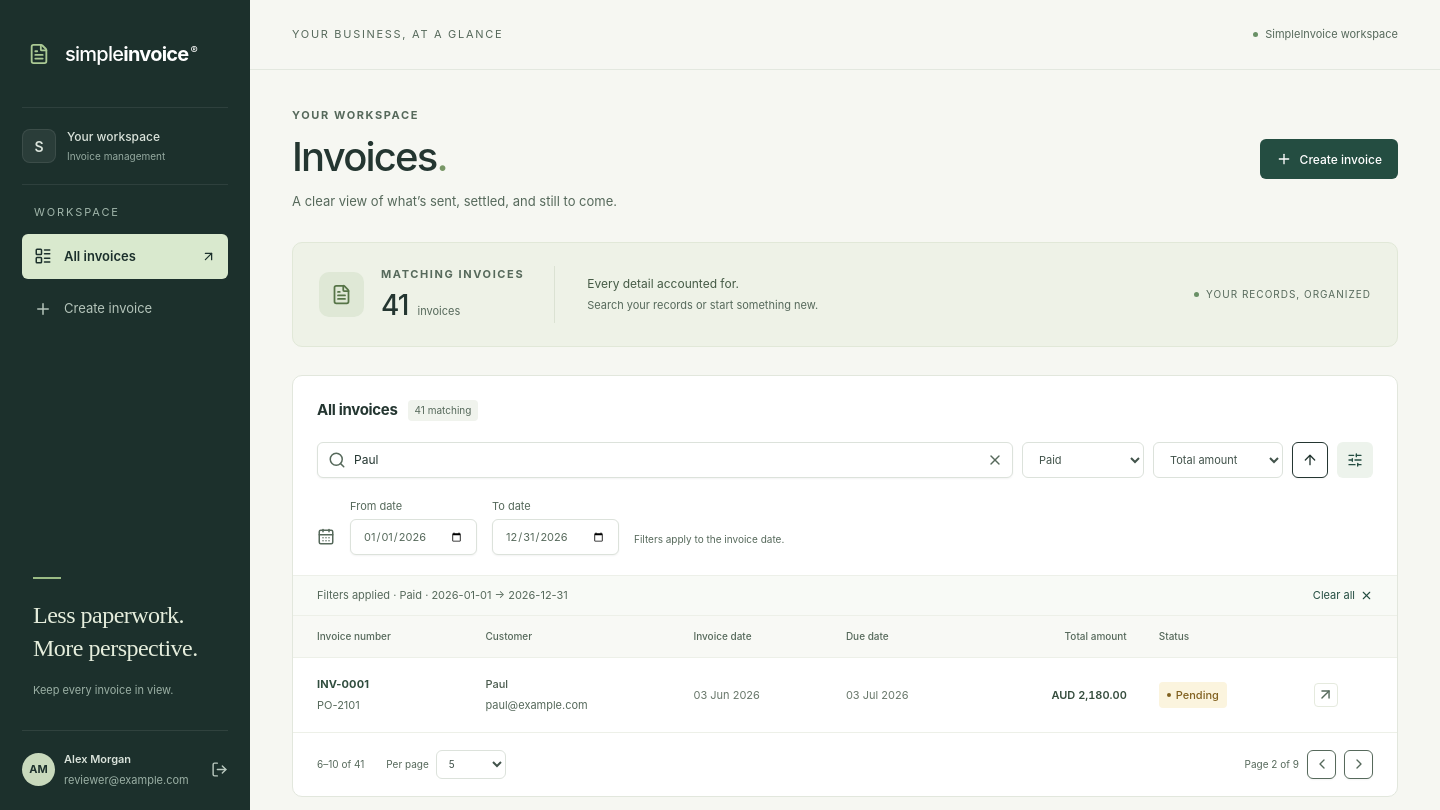
Invoice list controls › restores all list controls from the URL and retains them across detail navigation
Expected: the field named "Search invoices" holds "Paul", [317,442,1013,478]
Expected: the dropdown named "Filter by status" shows "Paid", [1022,442,1144,478]
Click the link "INV-0001".
click(343, 684)  # box [317,677,369,691]
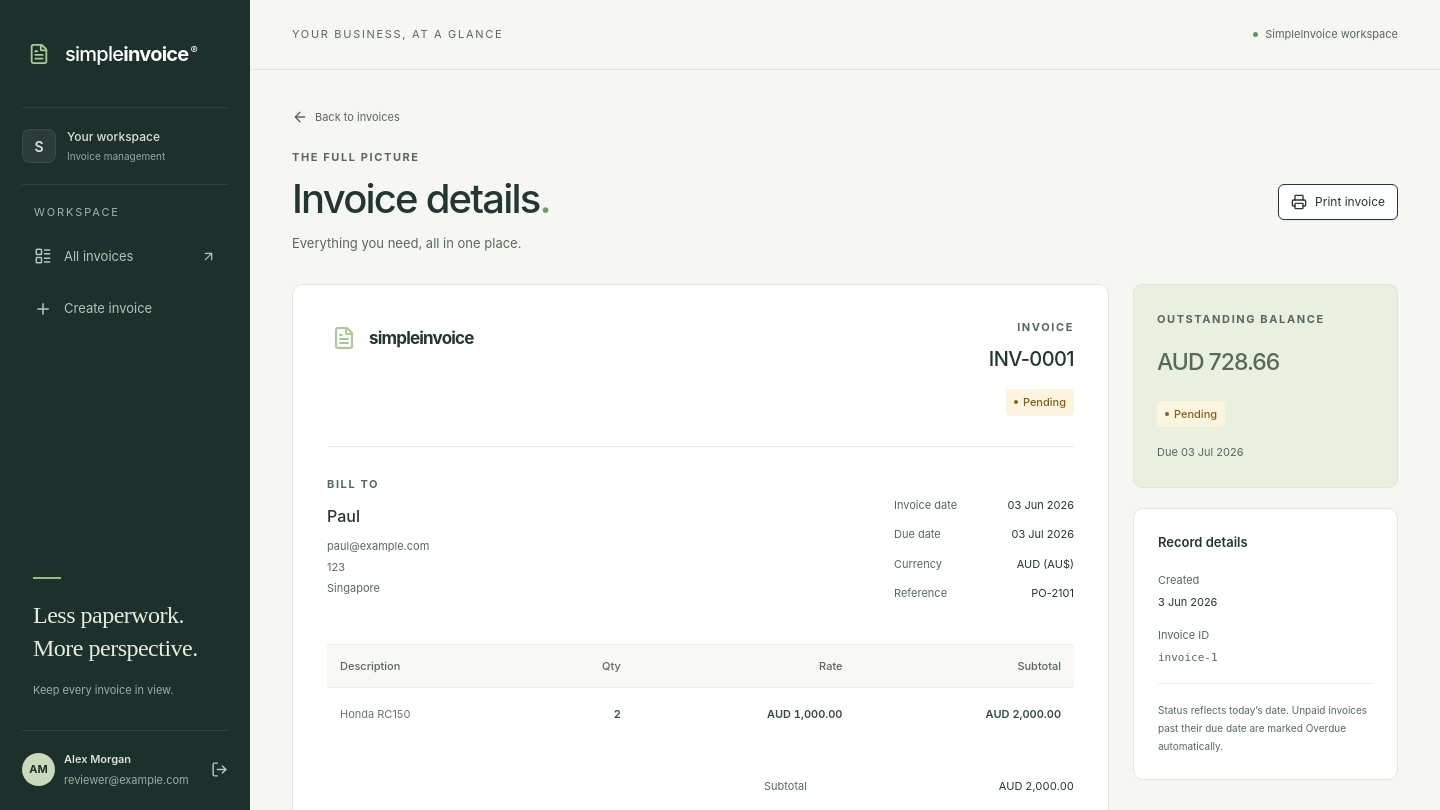
Expected: the heading "INV-0001" is shown, [989,344,1074,374]
Click the link "Back to invoices".
click(346, 117)  # box [292,109,400,125]
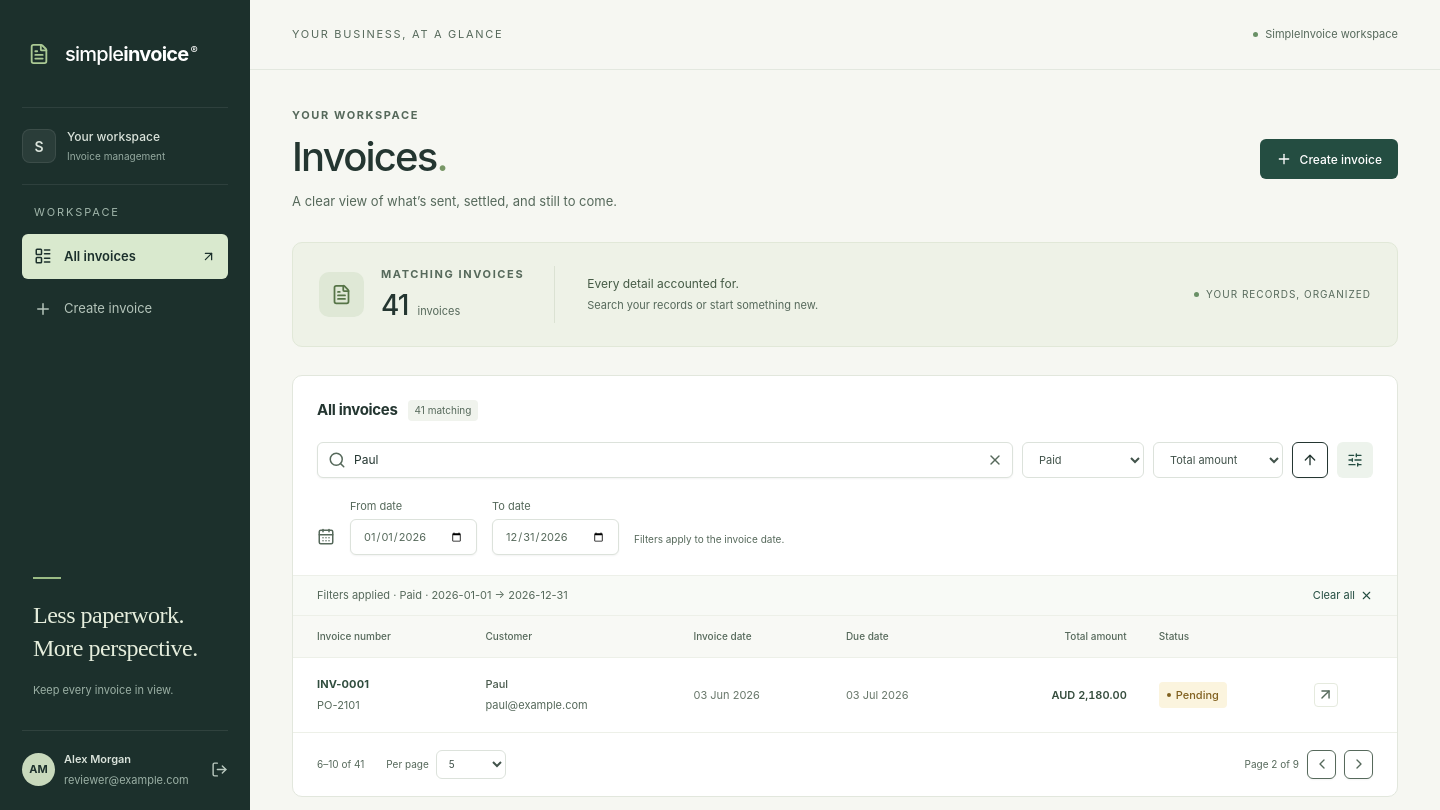
Expected: the heading "Invoices." is shown, [292,132,447,180]
Expected: the text "Page 2 of 9" is shown, [1245,757,1299,772]
